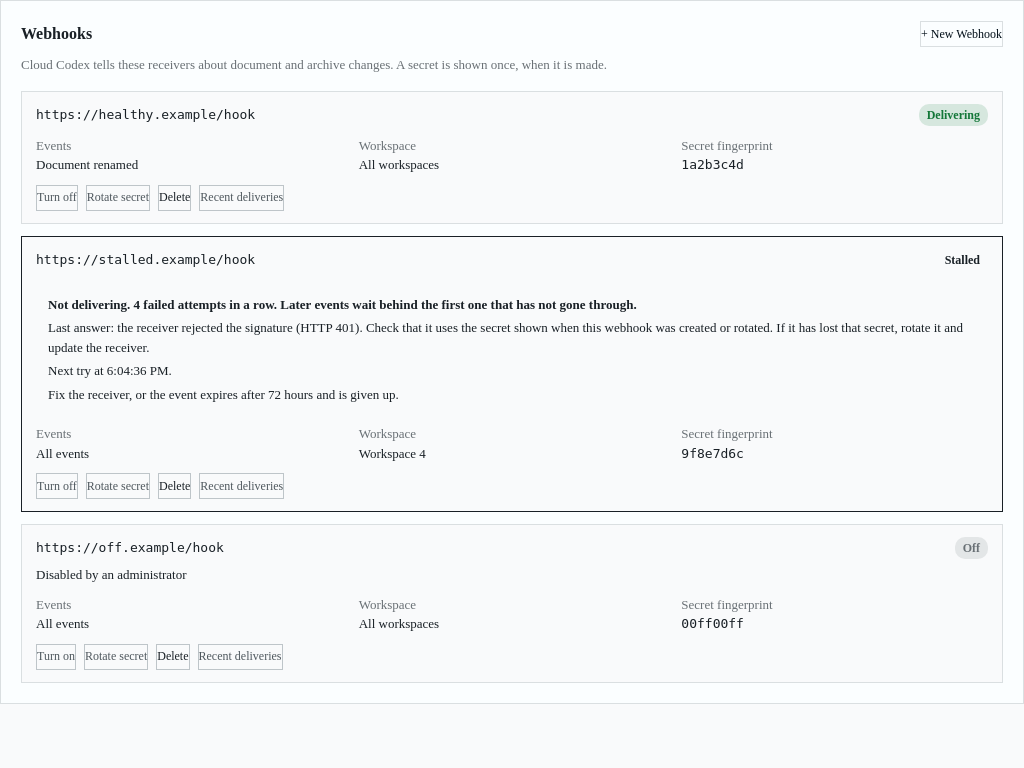
Test: WebhooksPanel: create › shows the cap refusal as the API sentence
Expected: the text "https://healthy.example/hook" is shown, left=36, top=105, right=255, bottom=124
Click the button "+ New Webhook" at x=962, y=34, box left=920, top=21, right=1003, bottom=47
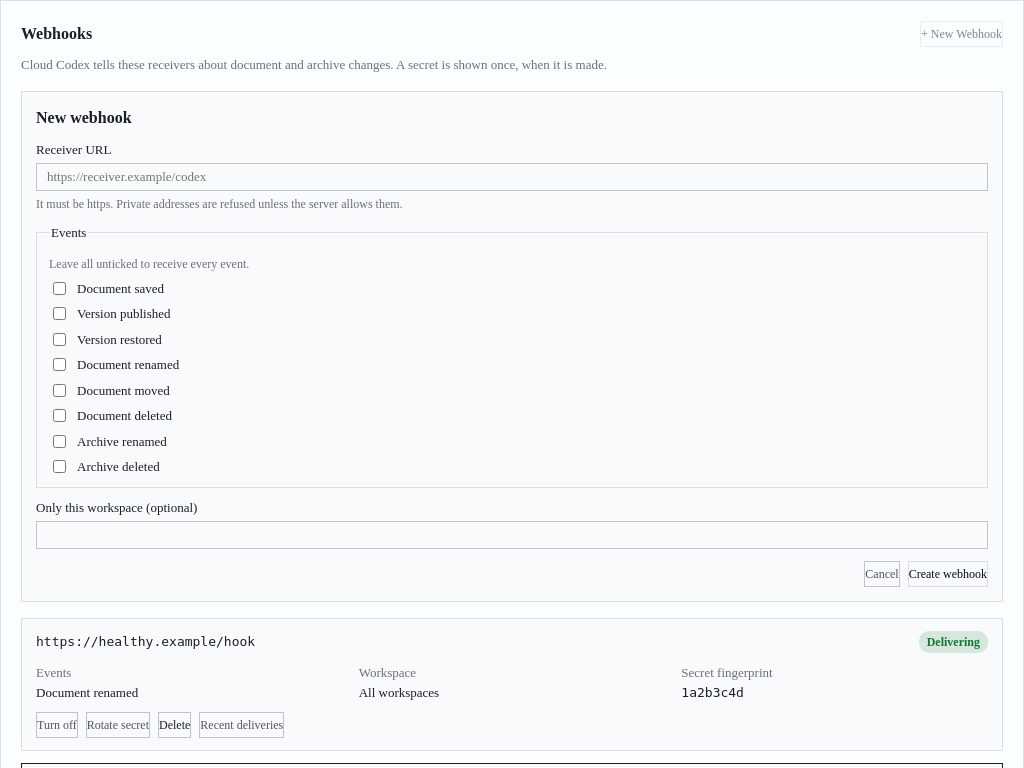
Type "https://new.example/hook" into the field labelled "Receiver URL" at x=512, y=177, box left=36, top=163, right=988, bottom=191
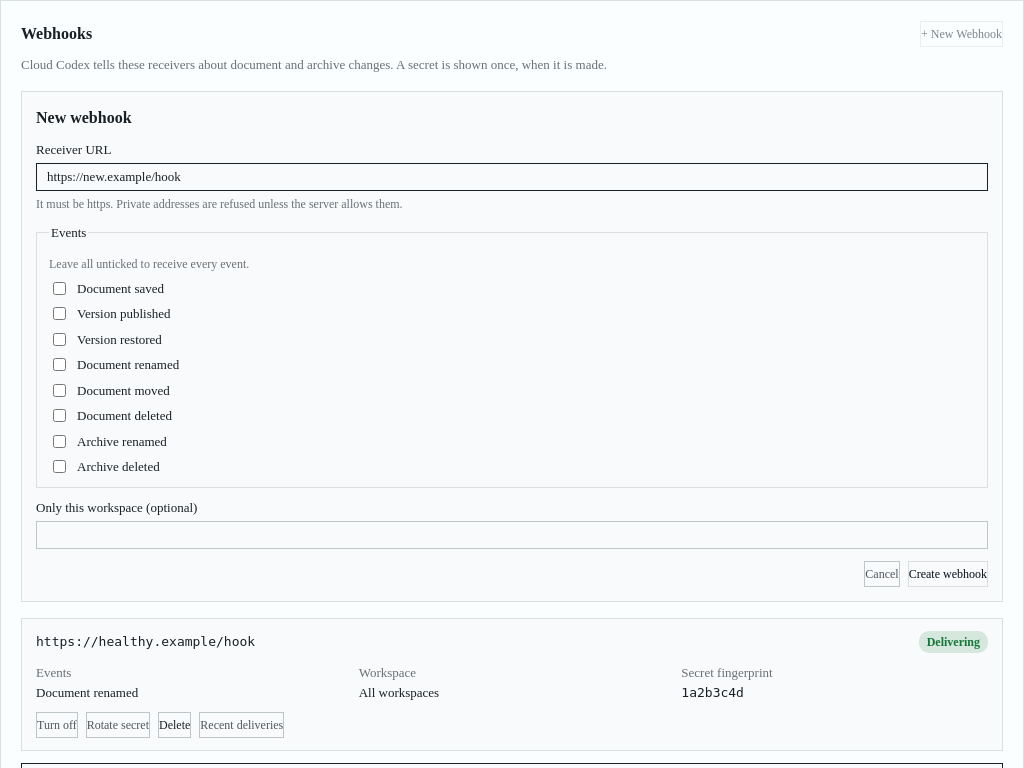
Click the button "Create webhook" at x=948, y=574, box left=908, top=561, right=988, bottom=587
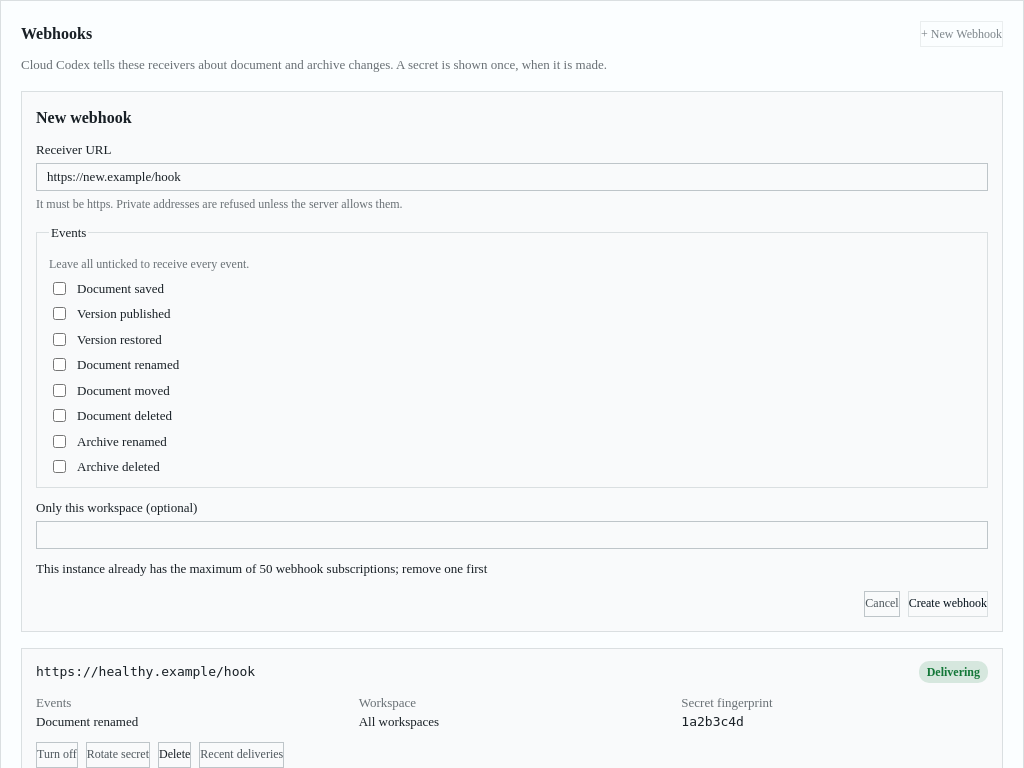
Now the text "This instance already has the maximum of 50 webhook subscriptions; remove one first" is shown, box left=36, top=561, right=487, bottom=576
